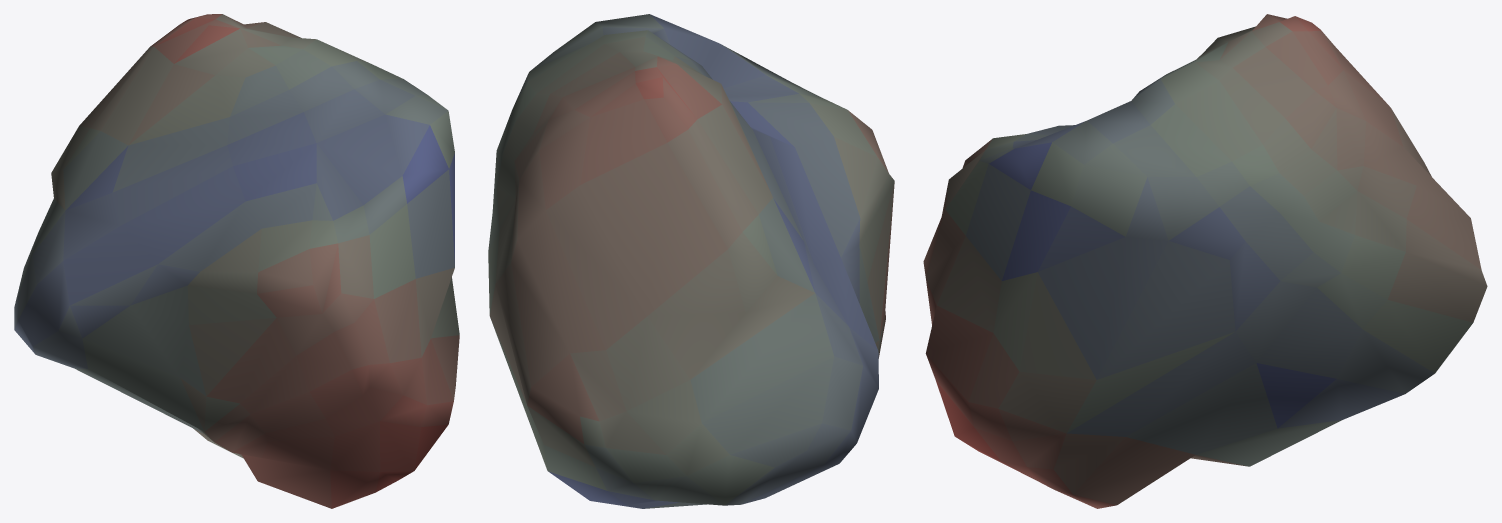
Rendered from Asteroid_02_LP.fbx.
3 views of the same model, side by side, from view 1: azimuth 30°, elevation 25°; view 2: azimuth 150°, elevation 25°; view 3: azimuth 270°, elevation 25° (orthographic). The views are drawn at different scales.
Visible parts, largest first — view 1: Asteroid_02_LP; view 2: Asteroid_02_LP; view 3: Asteroid_02_LP.
Boxes of the visible parts, <box> form: Asteroid_02_LP: <box>14,14,459,508</box>; Asteroid_02_LP: <box>488,14,894,508</box>; Asteroid_02_LP: <box>923,14,1487,508</box>.
Bounding box in the file's own units: 8.64 × 10.05 × 10.97.
